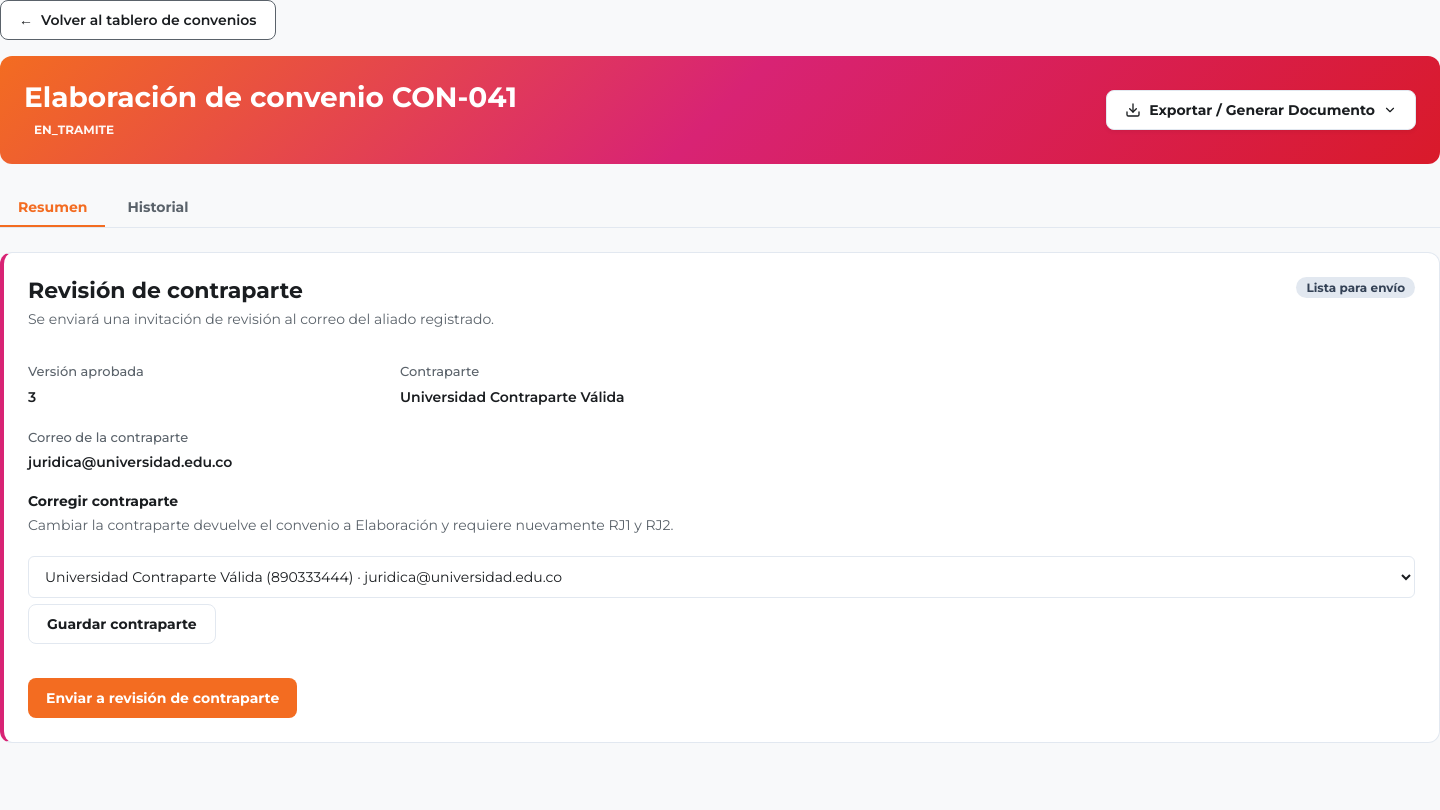
HT-16 (#172): validación y asignación de contraparte antes del envío (CA-01, CA-02, CA-03) › envía el ID vigente al reenviar una invitación y refresca su trazabilidad
What coordinates should you click on to do the following:
click the button "Enviar a revisión de contraparte"
I would click on:
 (163, 698)
Its box is [28,678,297,718].
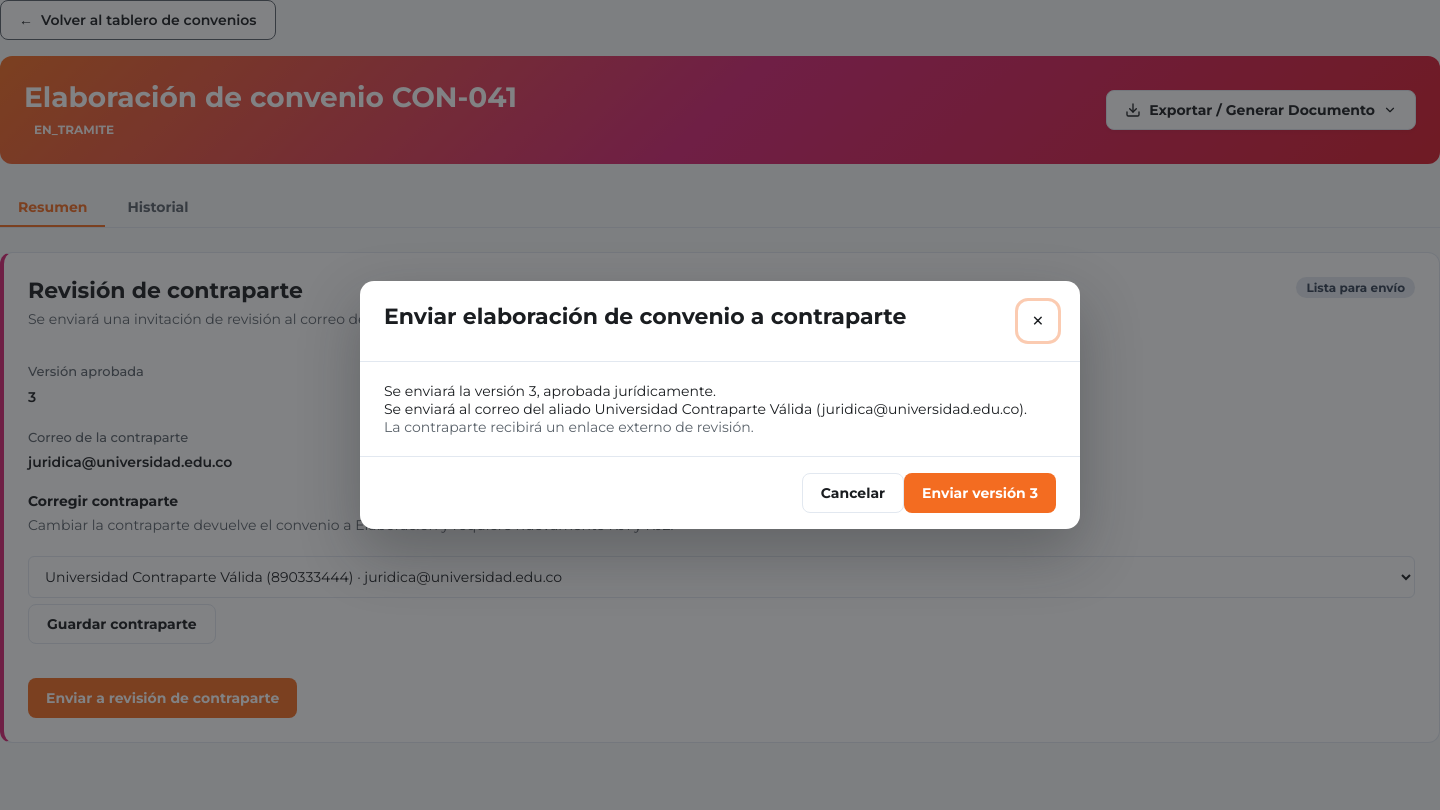
What coordinates should you click on to do the following:
click the button "Enviar versión 3"
I would click on:
 (980, 493)
Its box is [904,473,1056,513].
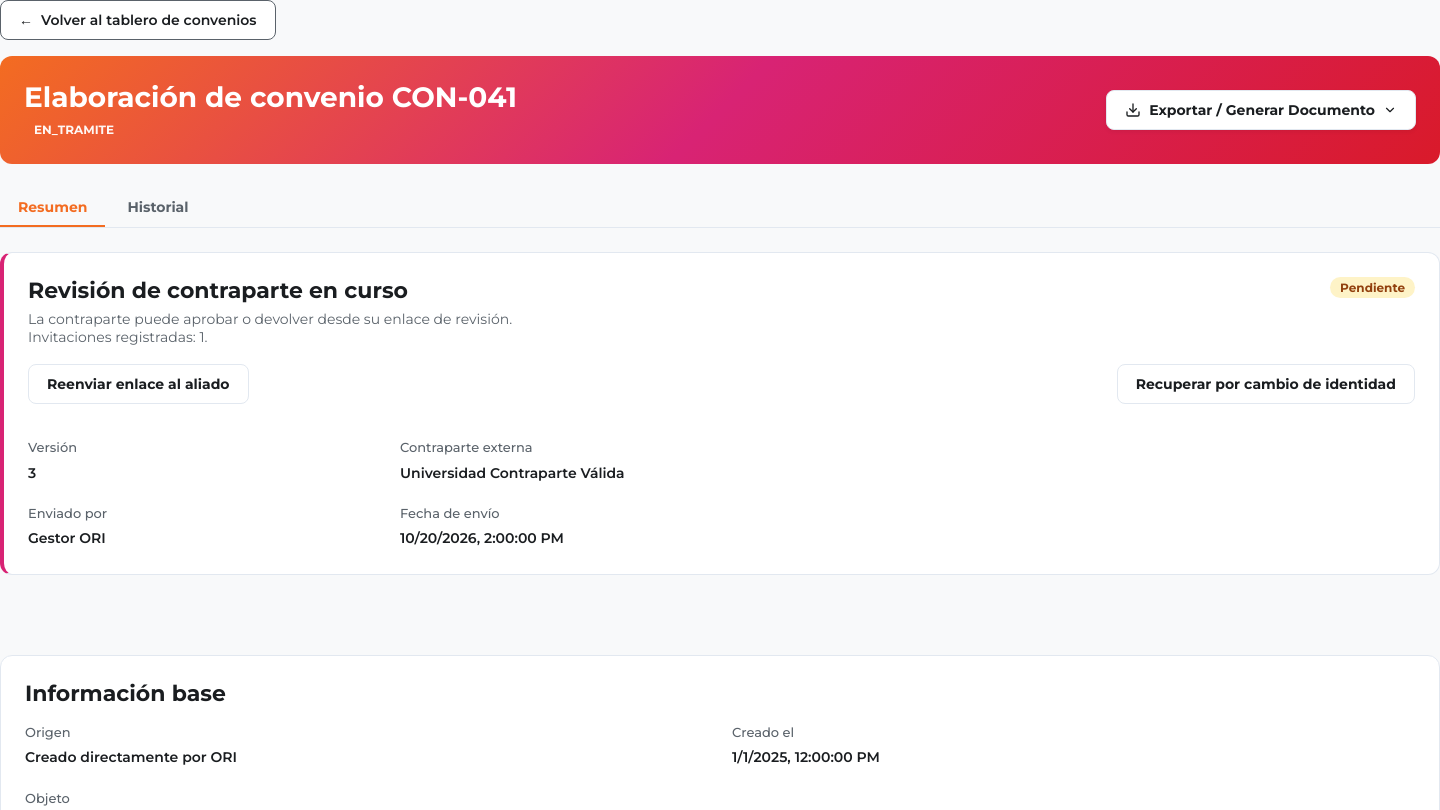
What coordinates should you click on to do the following:
click the button "Reenviar enlace al aliado"
I would click on:
 (138, 384)
Its box is [28,364,248,404].
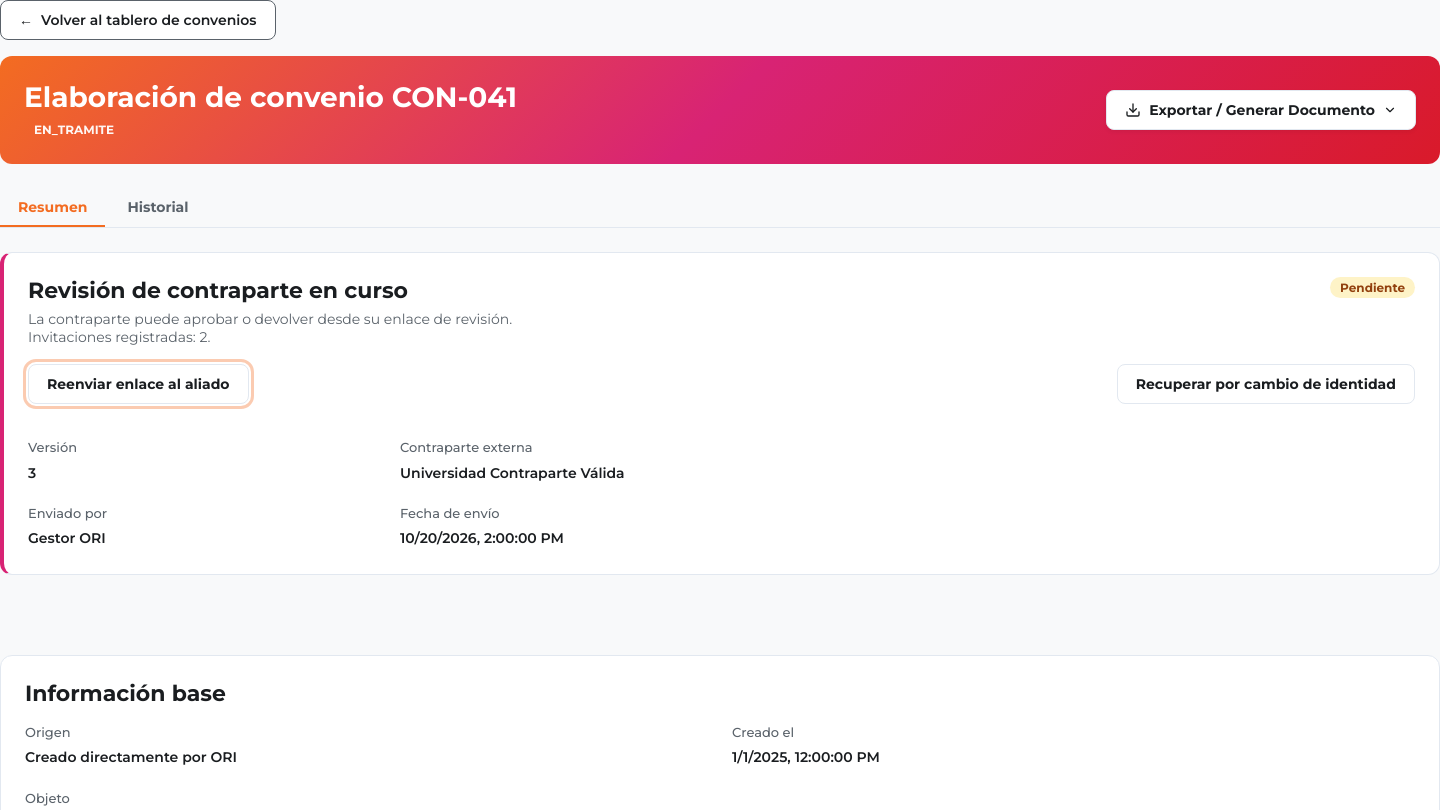
Now the text "Invitaciones registradas: 2." is shown, box [28,328,210,346]
